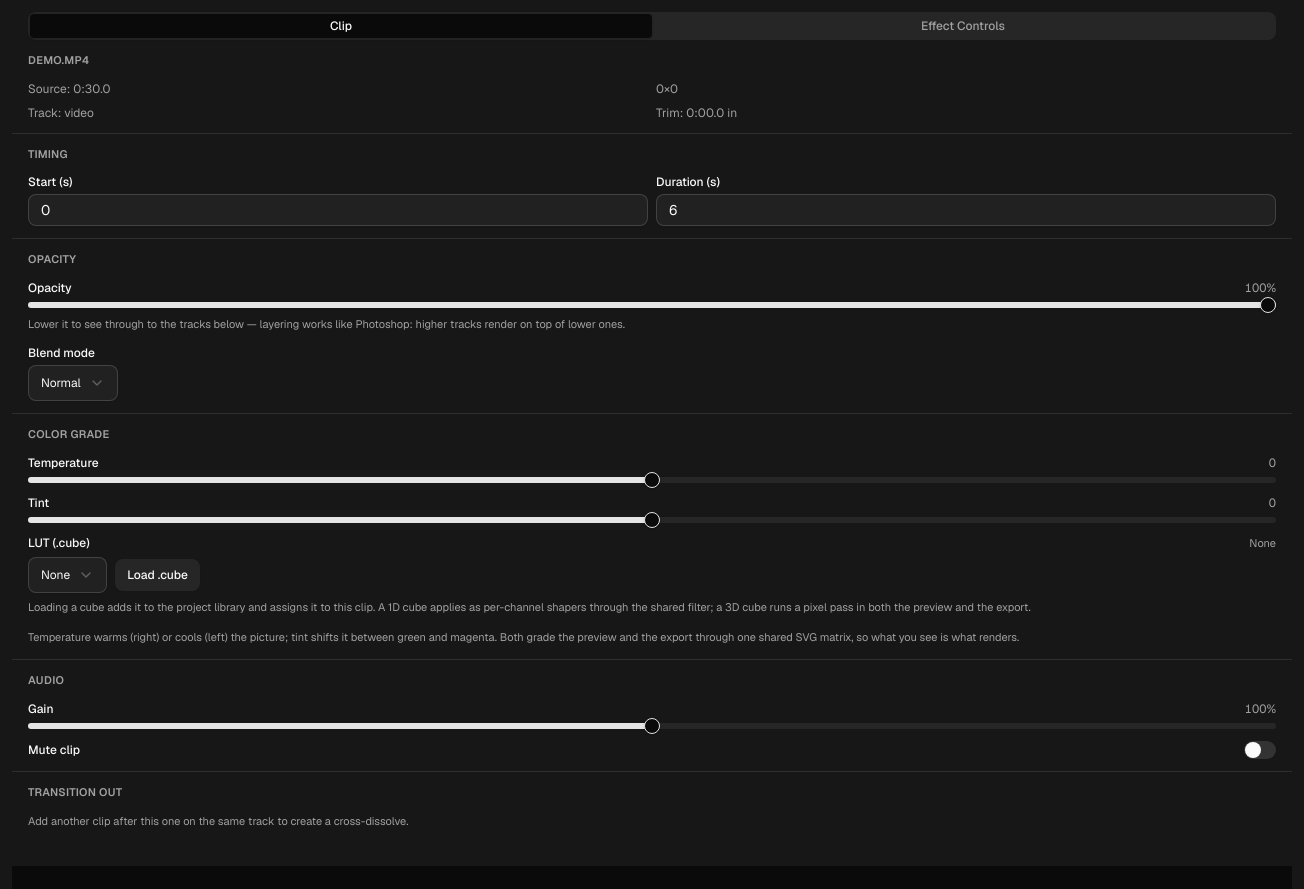
Applied Effects section › lists stack entries and renders the empty state without any
Click the tab with test id "inspector-tab-effects".
click(963, 26)  # box x1=652 y1=14 x2=1274 y2=38
(page scrolled)
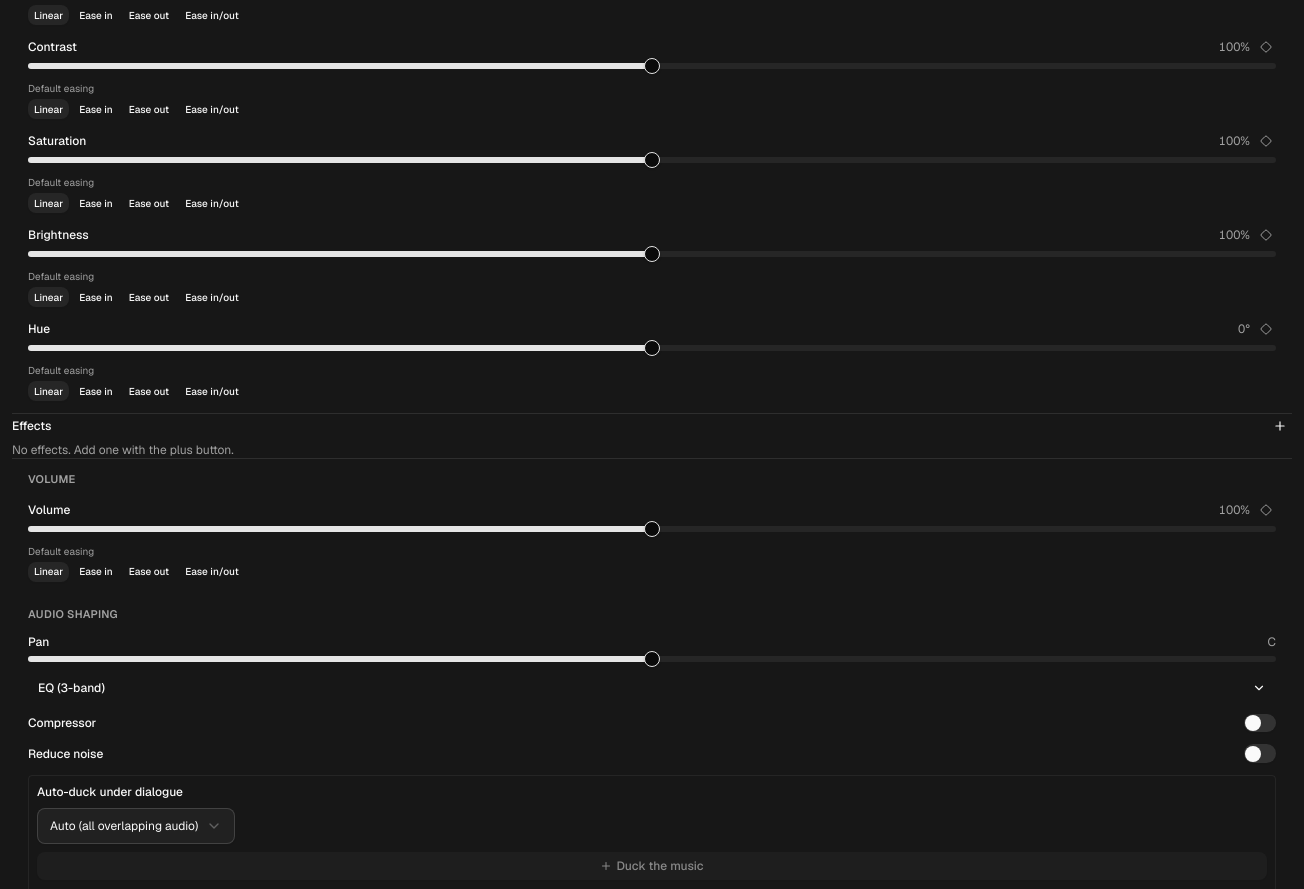
Check: the element with test id "applied-effects" is shown, box x1=12 y1=414 x2=1292 y2=458
Check: the text "No effects. Add one with the plus button." is shown, box x1=12 y1=442 x2=234 y2=458
